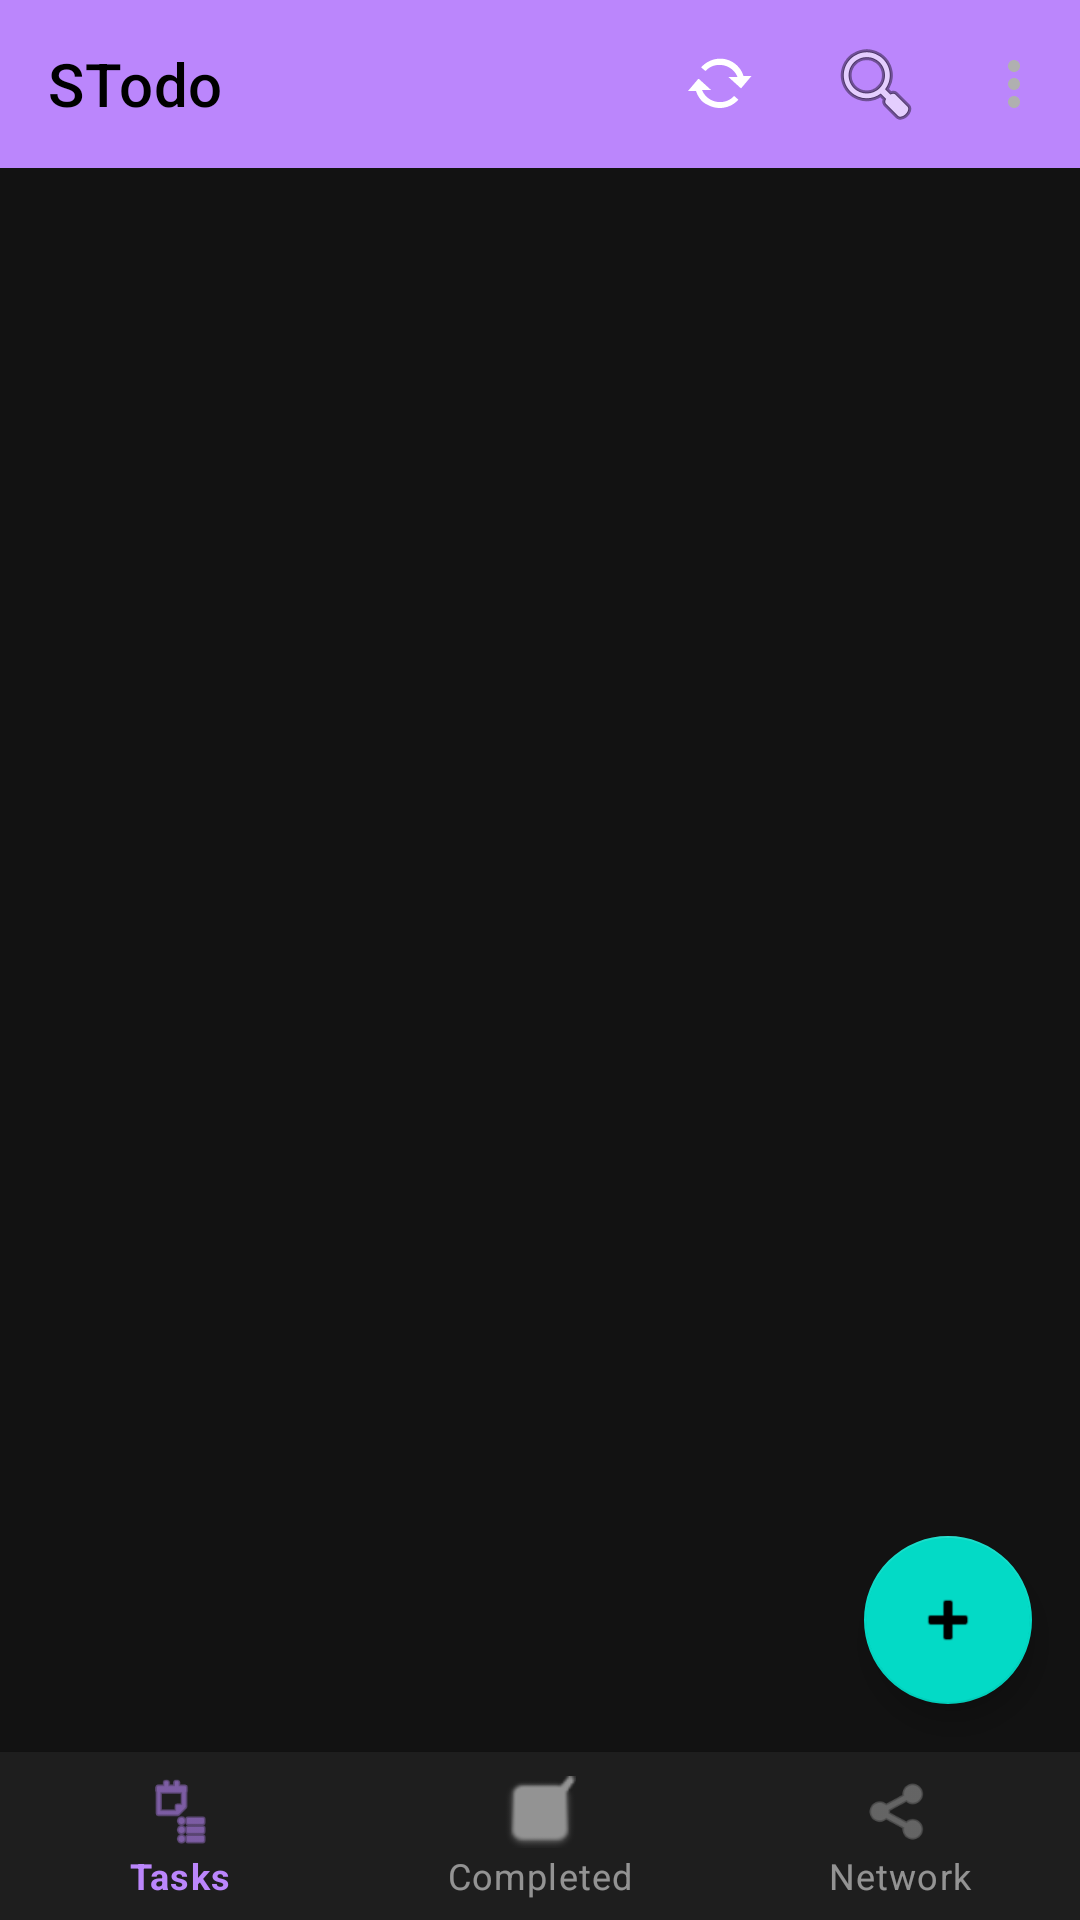

Screen size 1080px x 1920px. Icon name, then its box in pixels as (x1, y1, x2, y2):
Add task: (864, 1536, 1032, 1704)
